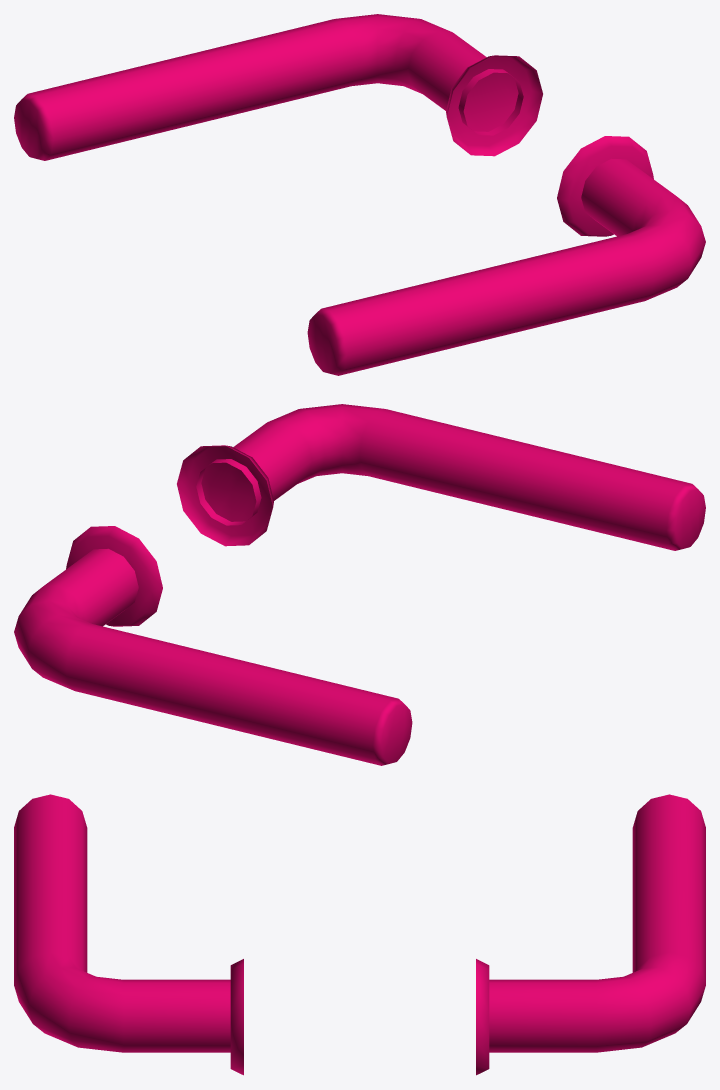
File: Door_Metal_02_Handle.fbx
The picture shows the model from 3 angles, top to bottom: view 1: azimuth 30°, elevation 25°; view 2: azimuth 150°, elevation 25°; view 3: azimuth 270°, elevation 25°; orthographic projection. The views are drawn at different scales.
Visible parts, largest first — view 1: Door_Metal_02_Handle; view 2: Door_Metal_02_Handle; view 3: Door_Metal_02_Handle.
Part boxes in pixels (<box>): Door_Metal_02_Handle: <box>14,14,705,375</box>; Door_Metal_02_Handle: <box>14,404,705,765</box>; Door_Metal_02_Handle: <box>14,794,705,1075</box>.
Size of the model in its own units: 15.49 by 3.54 by 20.87.
